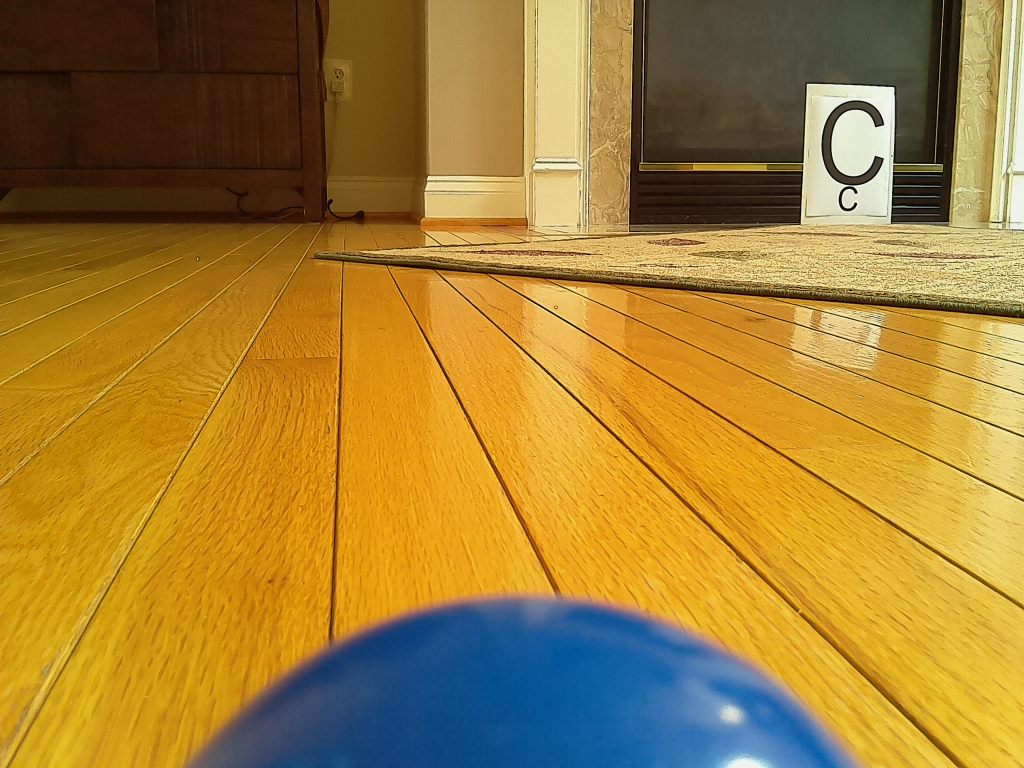letter: (822, 100, 884, 187)
